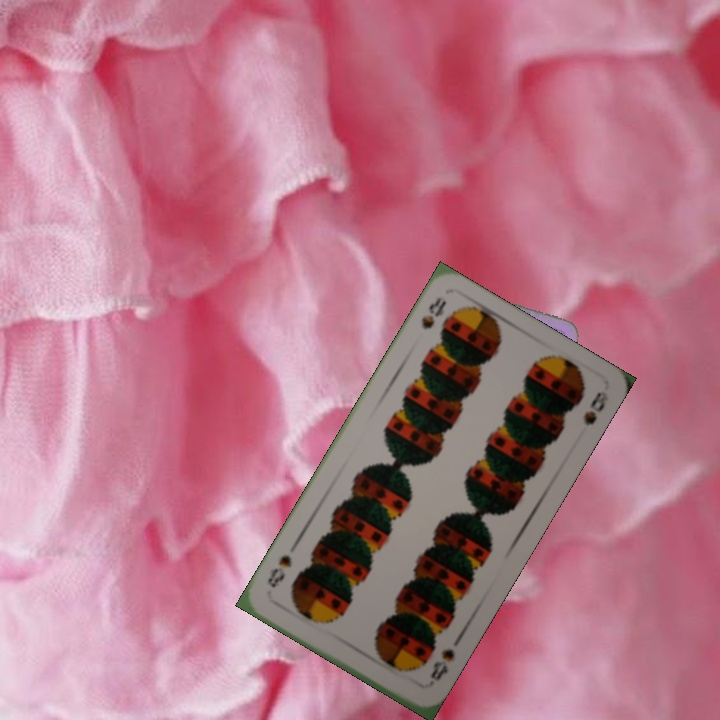S8: (417, 292, 450, 332), (426, 644, 457, 684)
